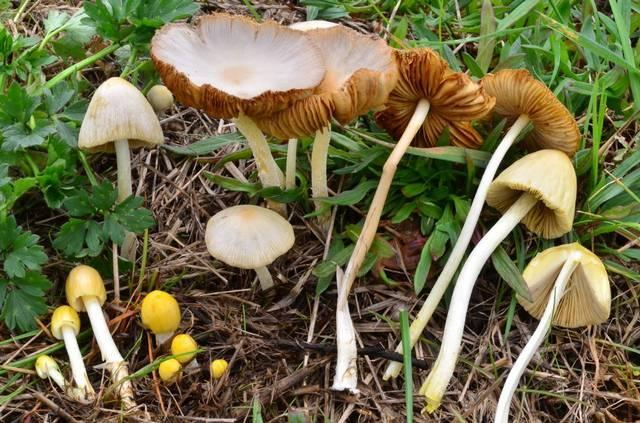edible_mushroom: (330, 46, 496, 393), (417, 147, 577, 414), (149, 12, 326, 216), (255, 18, 398, 231), (493, 241, 611, 422), (75, 69, 168, 170), (204, 203, 295, 290), (45, 259, 111, 361), (137, 279, 199, 382)
